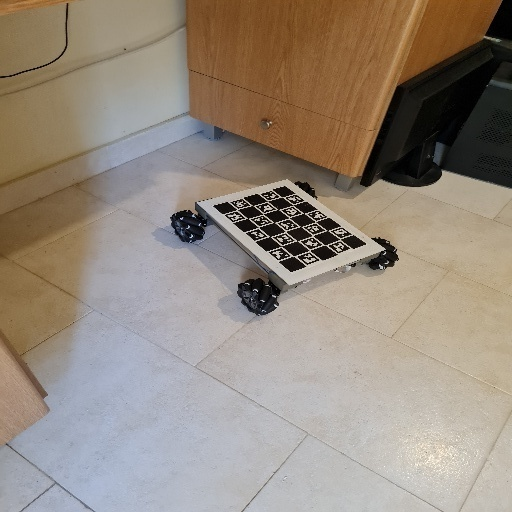Omniwheel: (169, 179, 401, 316)
